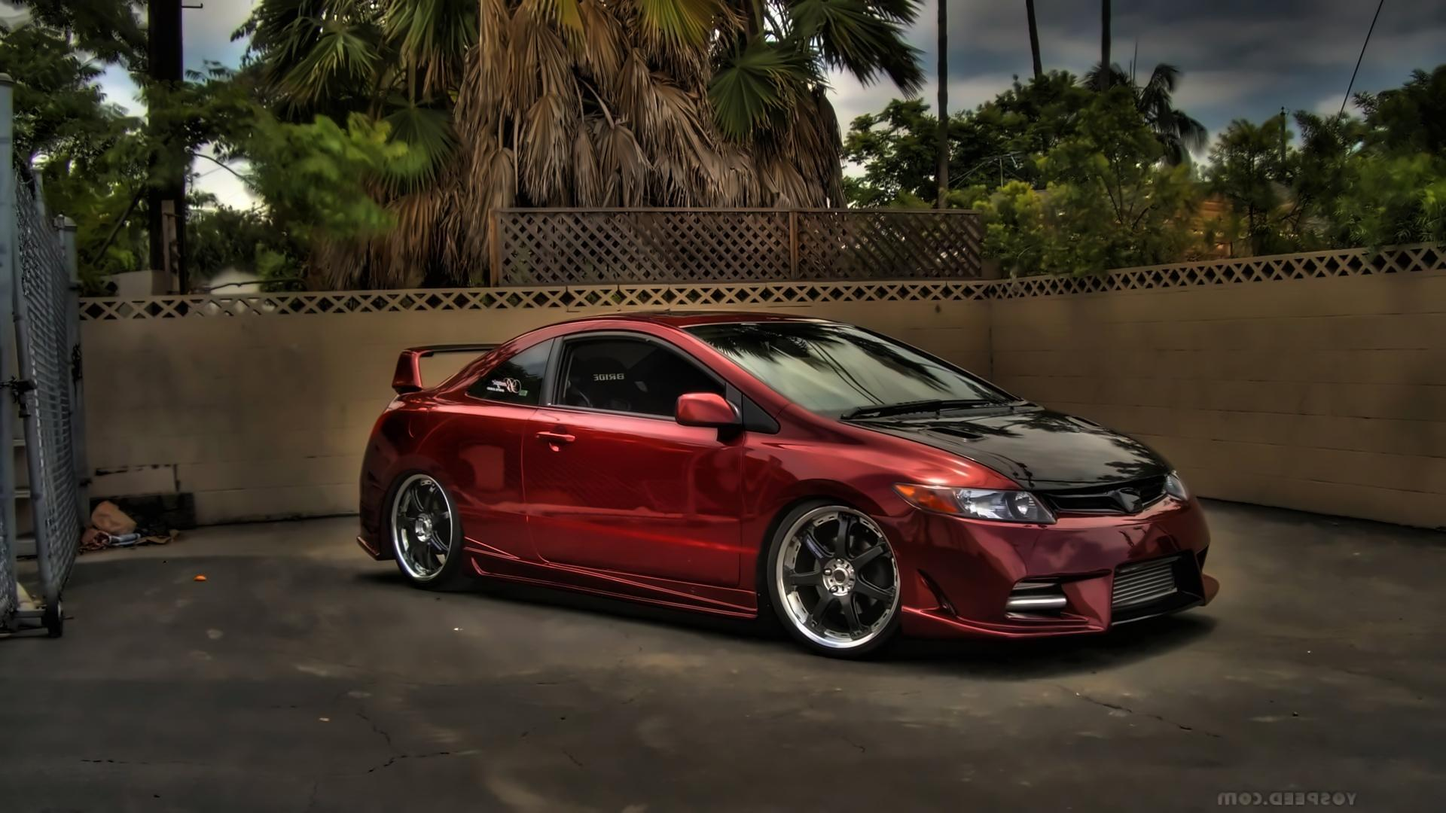Car hood: (819, 400, 1180, 495)
Driver-s door - -F-R-: (516, 315, 756, 622)
Fender - -F-R-: (733, 405, 977, 539)
Fender - -R-R-: (353, 383, 474, 496)
Front bumper: (873, 489, 1234, 653)
Headlight - -R-: (894, 479, 1057, 529)
Rear bumper: (335, 438, 397, 569)
Side bumper - -R-: (456, 512, 764, 636)
Side mirror - -R-: (674, 390, 745, 442)
